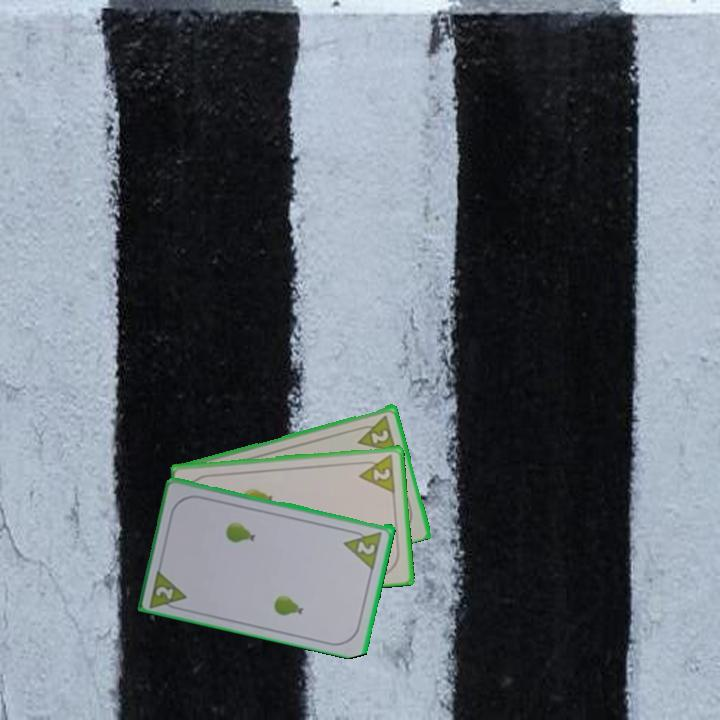2p: (351, 411, 399, 455), (355, 450, 398, 495), (152, 582, 177, 602), (354, 537, 378, 557)
